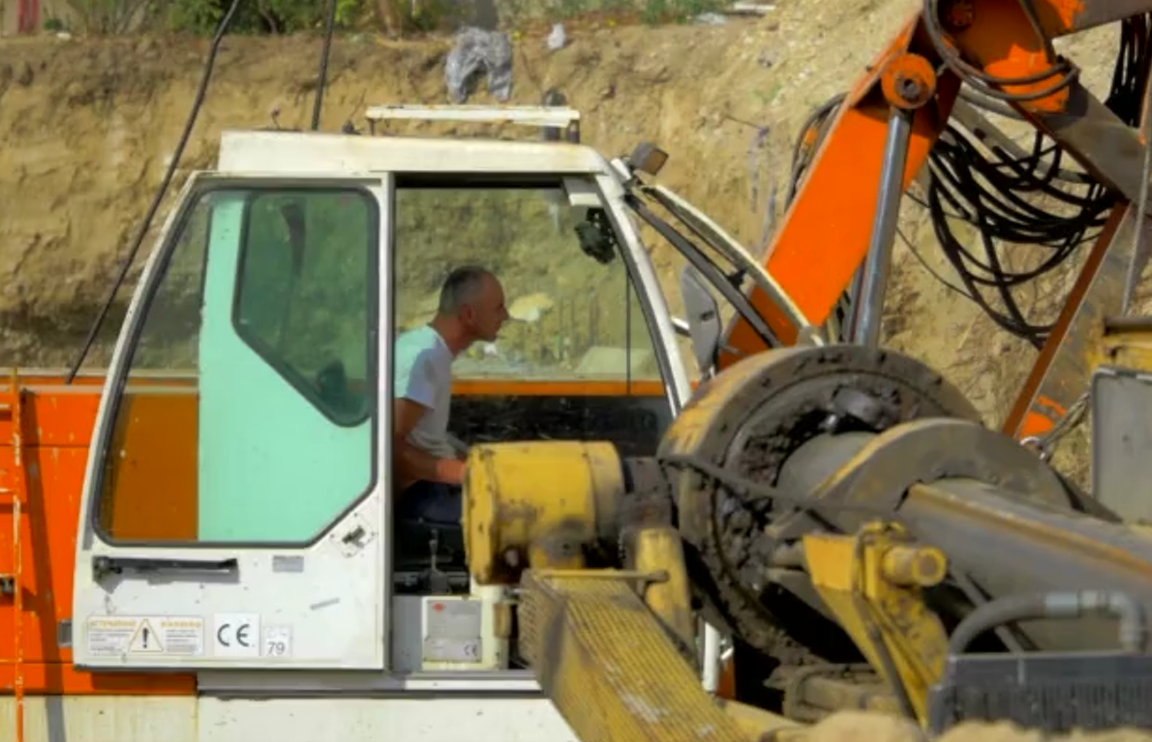safety_helmet: (31, 2, 1148, 737), (655, 341, 987, 668)
